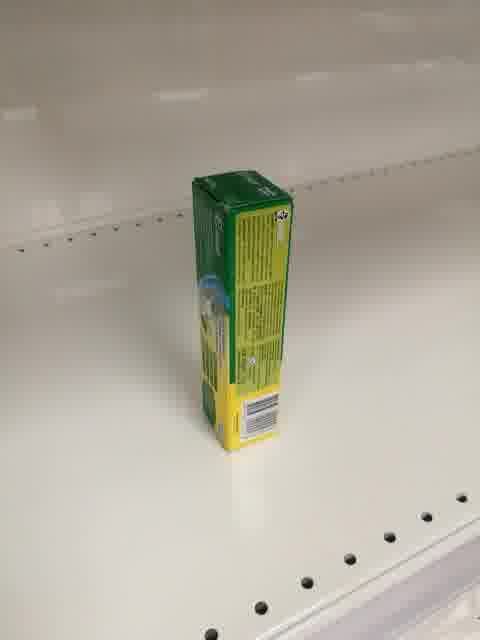toothpaste: (192, 170, 293, 453)
